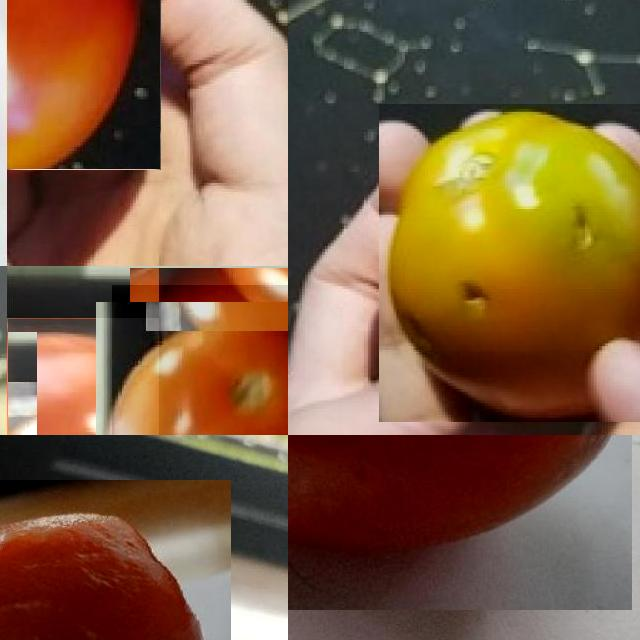1: (379, 104, 640, 422)
Fresh Tomato: (112, 285, 288, 435), (7, 0, 160, 169), (7, 318, 159, 435)
Rotten Tomato: (288, 435, 632, 610), (0, 480, 231, 640)
